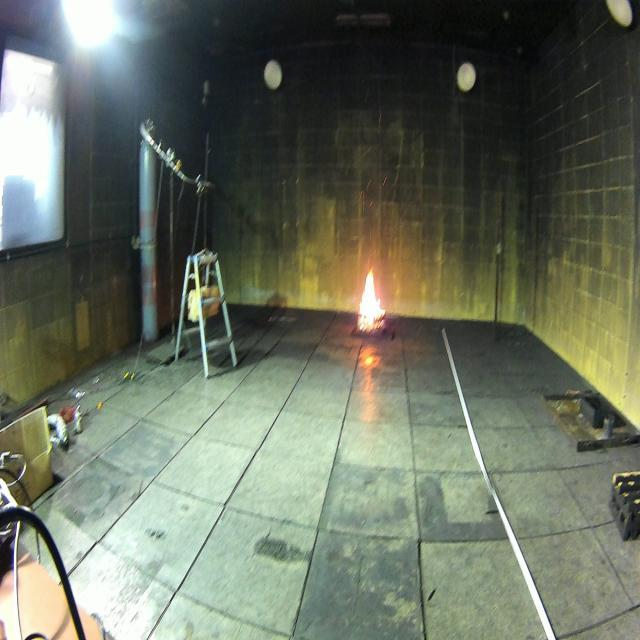Fire: (358, 266, 386, 330)
